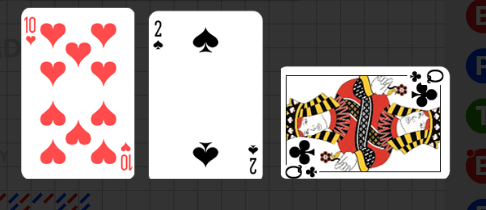10H: (24, 15, 38, 48)
2S: (246, 142, 260, 176)
9C: (408, 68, 446, 85)
